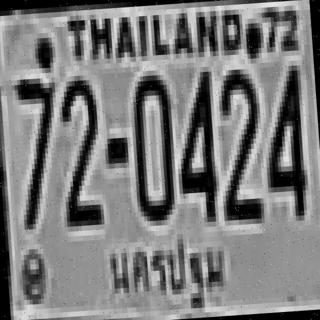N00: (128, 72, 176, 219)
N02: (214, 66, 264, 218), (55, 75, 103, 222)
N04: (259, 60, 307, 217), (171, 66, 218, 218)
N07: (14, 75, 61, 227)
P28: (103, 227, 230, 317)
